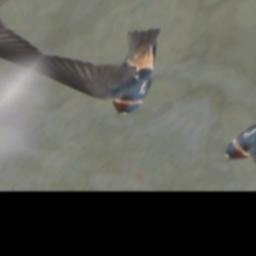Swallow: (24, 0, 199, 122)
